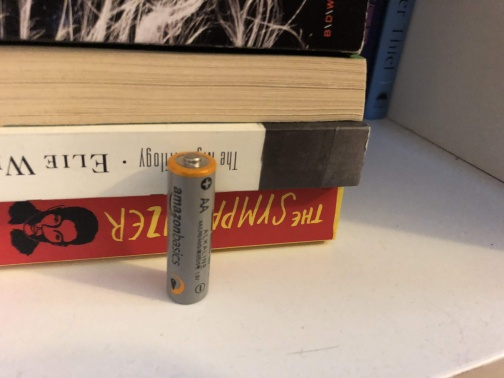battery: (163, 148, 219, 308)
